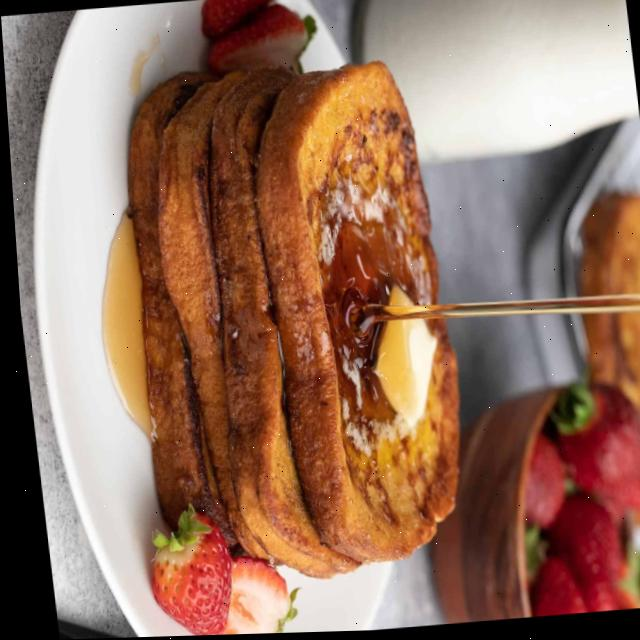Bread: (252, 65, 453, 564), (579, 316, 640, 474), (573, 197, 640, 299)
